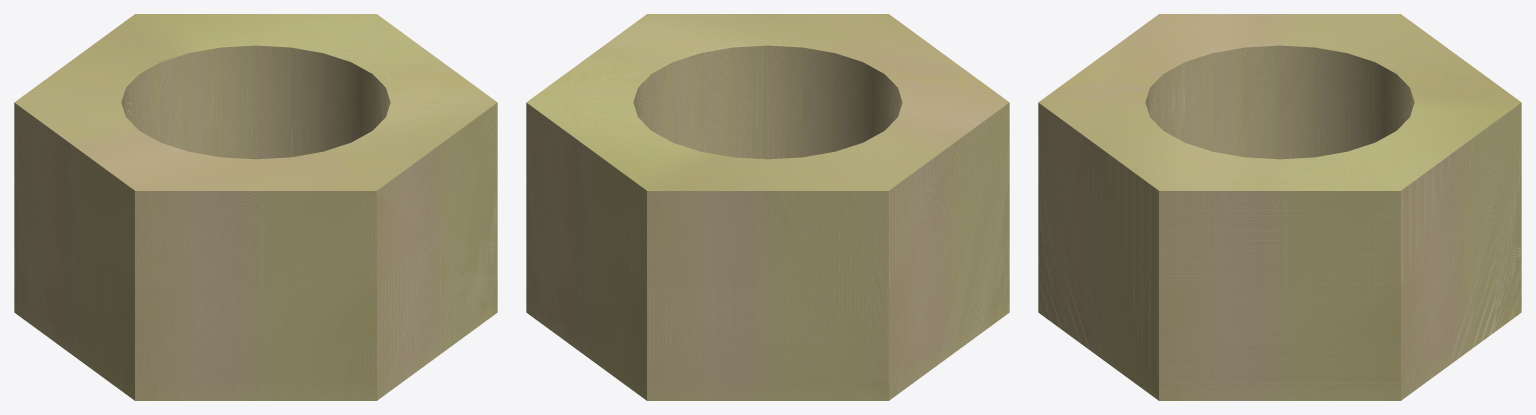
Rendered from original-11.obj.
3 renders of one model, left to right at view 1: azimuth 30°, elevation 25°; view 2: azimuth 150°, elevation 25°; view 3: azimuth 270°, elevation 25°, orthographic.
Visible parts, largest first — view 1: Hex_Nut_.5625_2/Hex_Nut_.5625/mesh13/mesh13-geometry#mesh13-geom; view 2: Hex_Nut_.5625_2/Hex_Nut_.5625/mesh13/mesh13-geometry#mesh13-geom; view 3: Hex_Nut_.5625_2/Hex_Nut_.5625/mesh13/mesh13-geometry#mesh13-geom.
Part boxes in pixels (left/top/right/bottom): Hex_Nut_.5625_2/Hex_Nut_.5625/mesh13/mesh13-geometry#mesh13-geom: left=14, top=14, right=497, bottom=400; Hex_Nut_.5625_2/Hex_Nut_.5625/mesh13/mesh13-geometry#mesh13-geom: left=526, top=14, right=1009, bottom=400; Hex_Nut_.5625_2/Hex_Nut_.5625/mesh13/mesh13-geometry#mesh13-geom: left=1038, top=14, right=1521, bottom=400.
Bounding box in the file's own units: 0.2558 × 0.1417 × 0.2954.
Materials: 3 (3 with a texture image).
